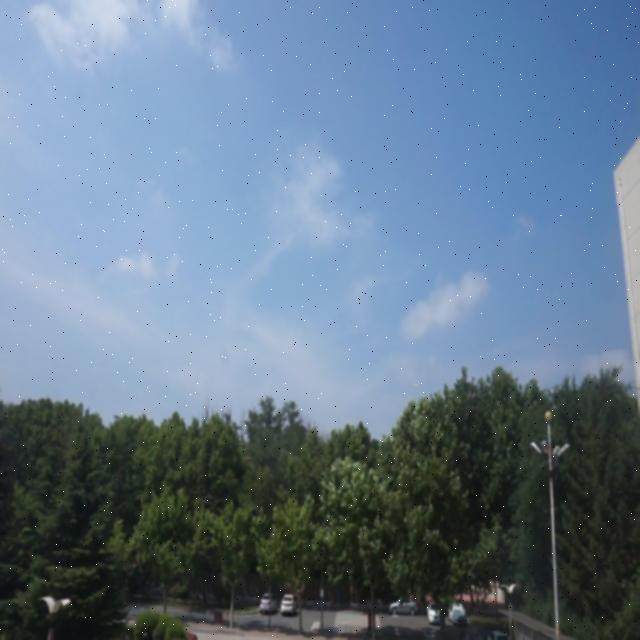UAV: (412, 384, 420, 389)
